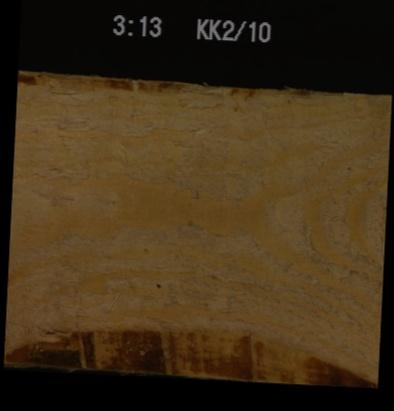wave: (3, 327, 378, 378), (17, 72, 344, 100)
